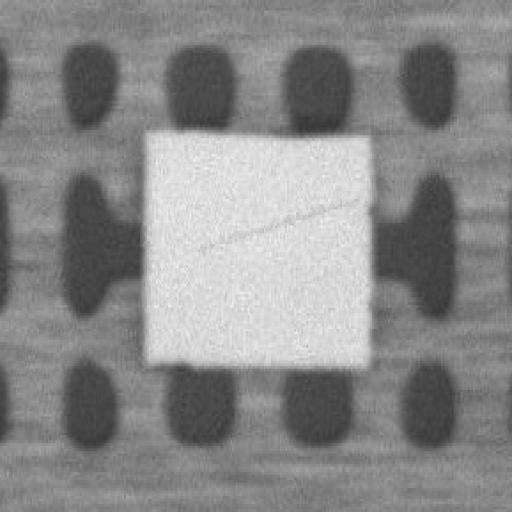DIE_CRACK: (294, 131, 512, 166)
